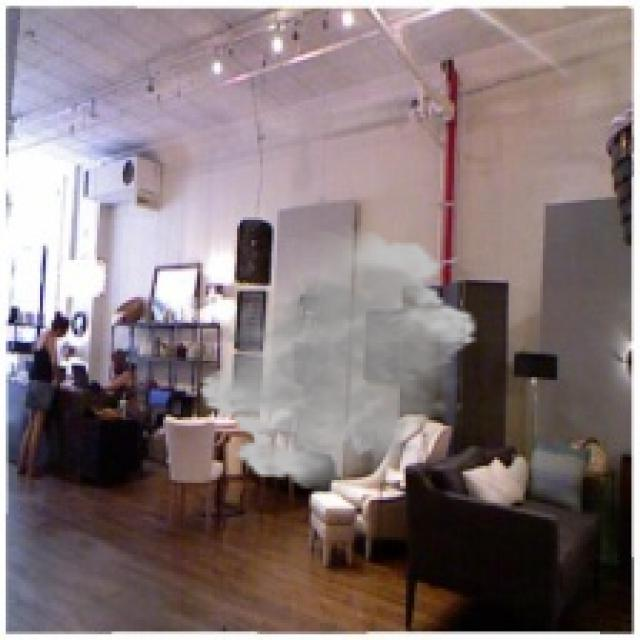smoke: (197, 226, 480, 494)
